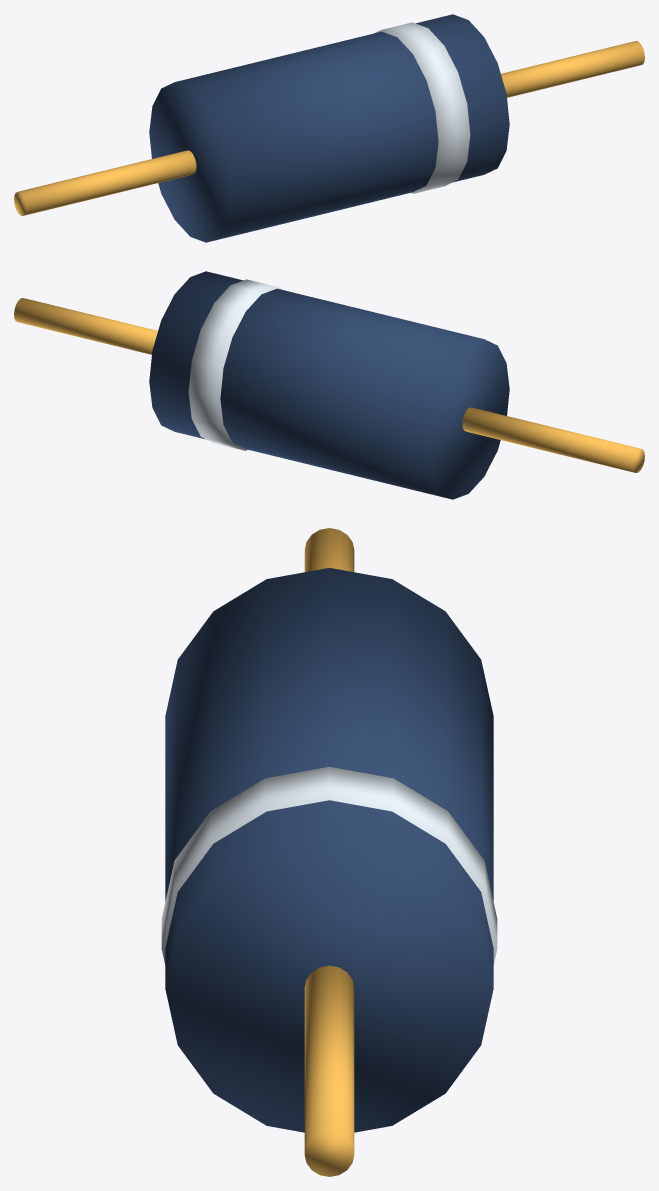
File: diode-lite.glb
3 renders of one model, top to bottom at view 1: azimuth 30°, elevation 25°; view 2: azimuth 150°, elevation 25°; view 3: azimuth 270°, elevation 25°, orthographic. The views are drawn at different scales.
Visible parts, largest first — view 1: Axial body; view 2: Axial body; view 3: Axial body.
Part boxes in pixels (x1,y1,x2,y2): Axial body: (14, 14, 644, 242); Axial body: (14, 271, 644, 499); Axial body: (161, 528, 497, 1176).
Bounding box in the file's own units: 2 × 0.47 × 0.47.
